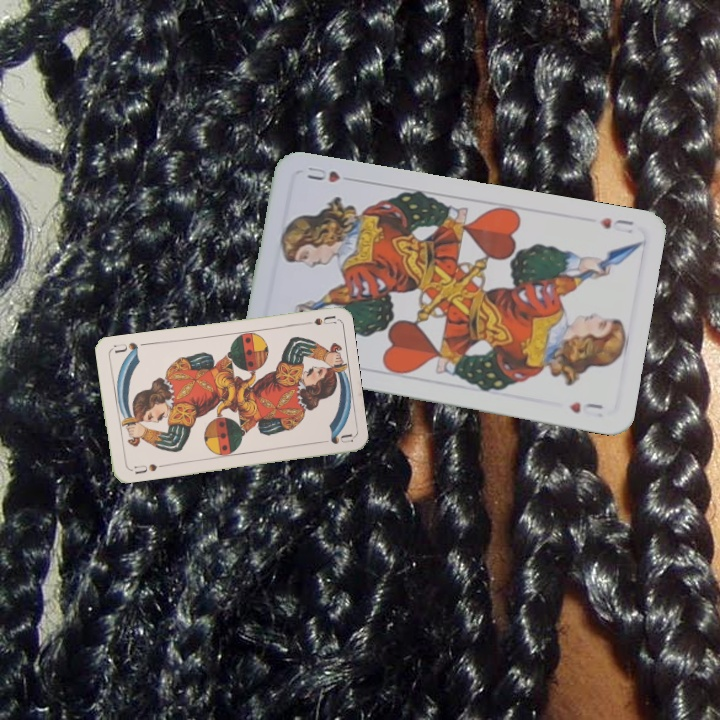HU: (595, 213, 636, 232)
SU: (296, 312, 337, 328), (130, 460, 159, 476)
